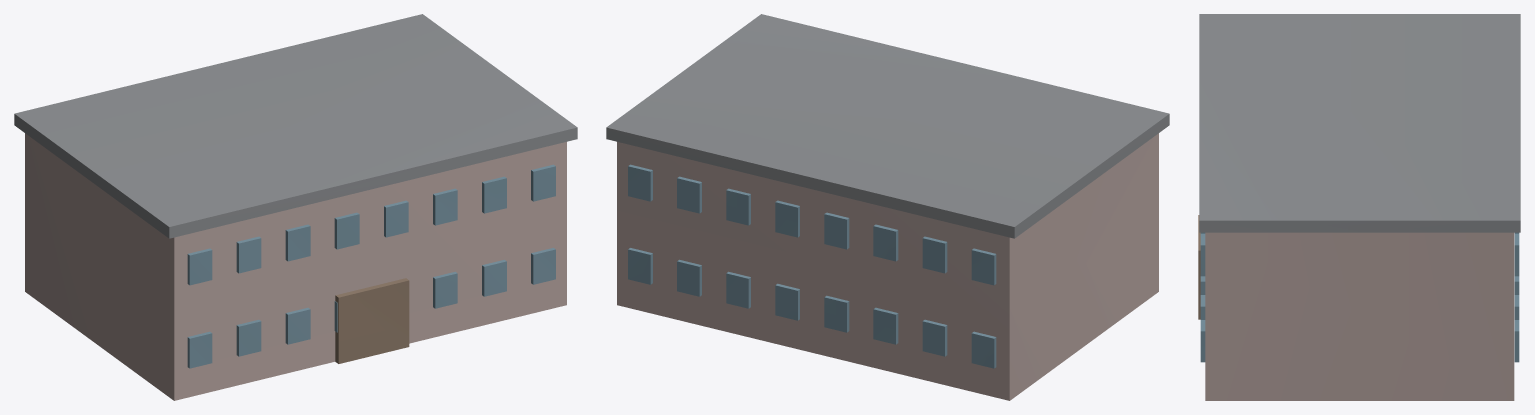
The model's file is warehouse-03.glb.
The picture shows the model from 3 angles, left to right: view 1: azimuth 30°, elevation 25°; view 2: azimuth 150°, elevation 25°; view 3: azimuth 270°, elevation 25°; orthographic projection. The views are drawn at different scales.
Parts seen in each view (by area): view 1: world; view 2: world; view 3: world.
Part boxes in pixels (left/top/right/bottom): world: left=14, top=14, right=577, bottom=400; world: left=606, top=14, right=1169, bottom=400; world: left=1198, top=14, right=1520, bottom=400.
Size of the model in its own units: 2.57 by 1.07 by 1.69.
